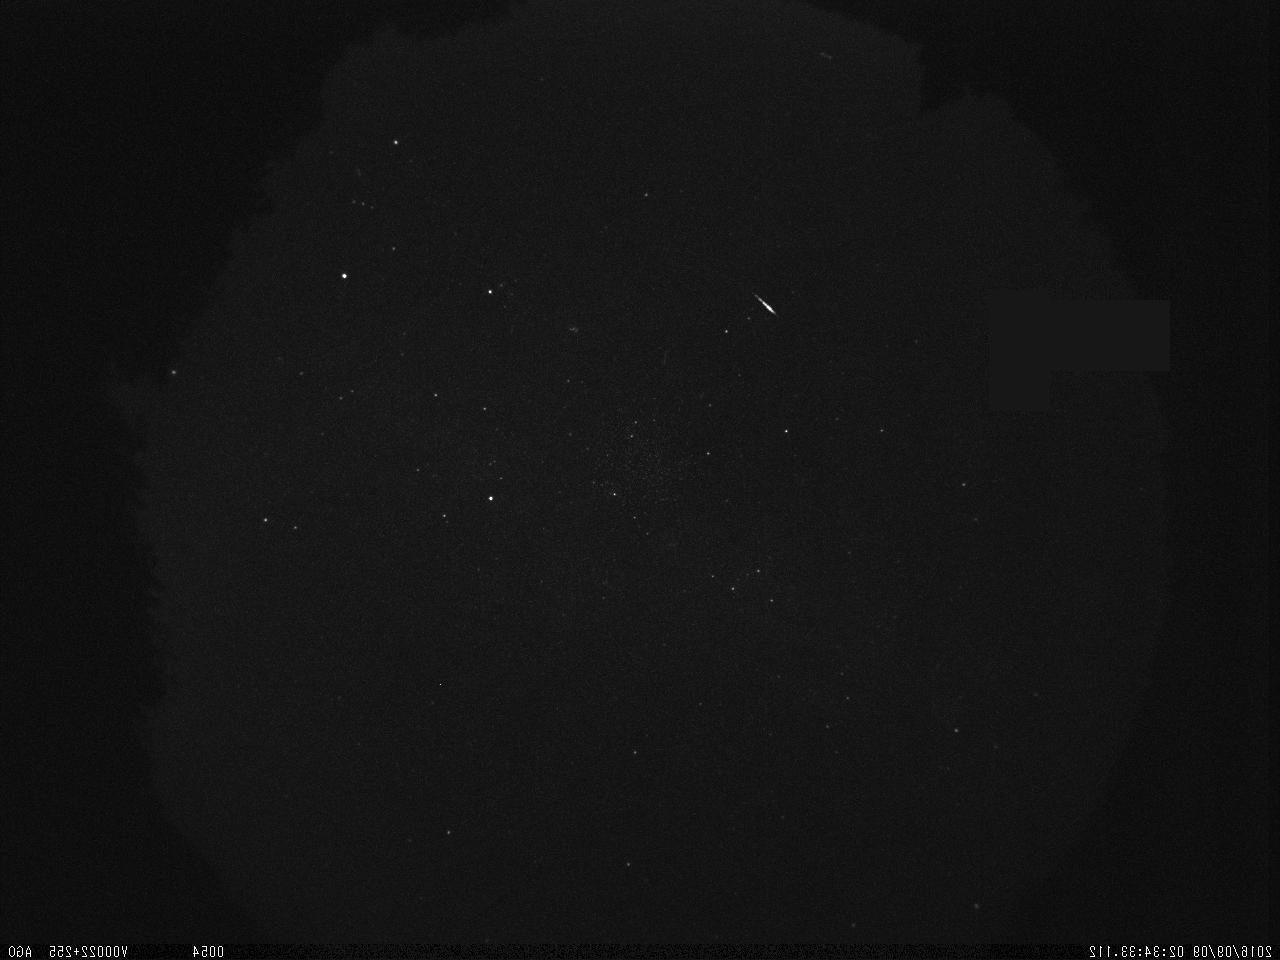meteor: (736, 290, 783, 320)
